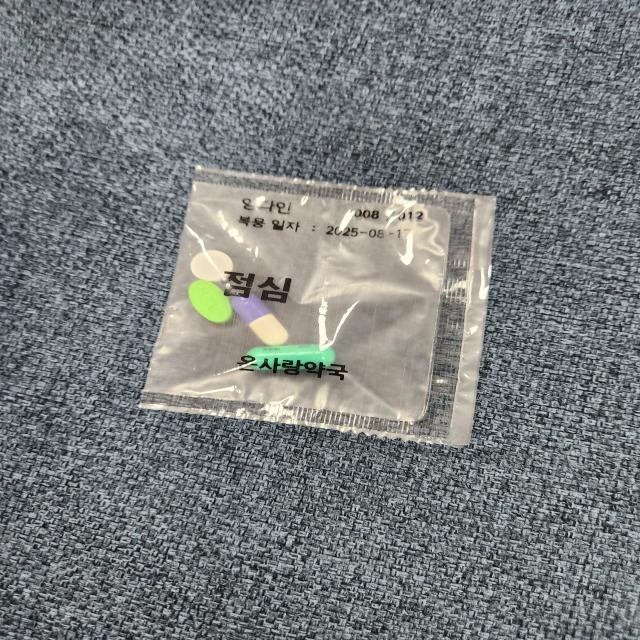러키펜정: (191, 251, 234, 280)
씨엠지세파클러캡슐: (230, 292, 288, 345)
에르도캡슐: (246, 343, 335, 371)
휴티렌정: (189, 280, 233, 324)
